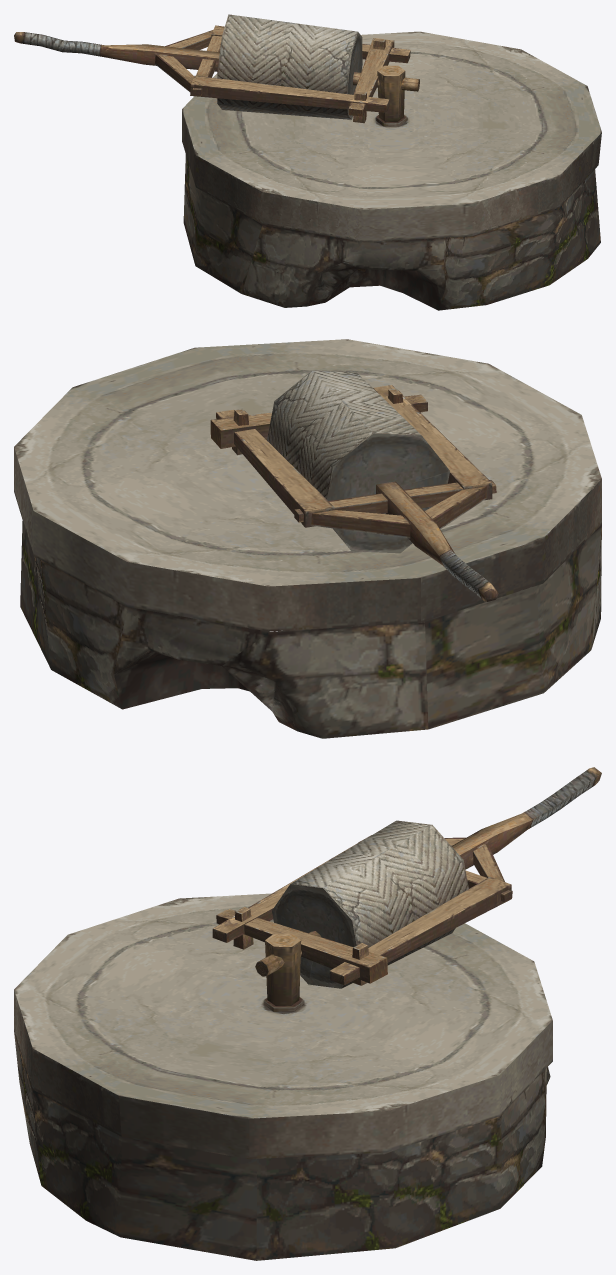
Rendered from jd_shimo_1.FBX.
The picture shows the model from 3 angles, top to bottom: view 1: azimuth 30°, elevation 25°; view 2: azimuth 150°, elevation 25°; view 3: azimuth 270°, elevation 25°; orthographic projection. The views are drawn at different scales.
Parts seen in each view (by area): view 1: jd_shimo_1; view 2: jd_shimo_1; view 3: jd_shimo_1.
Part boxes in pixels (x1,y1,x2,y2): jd_shimo_1: (14, 14, 601, 310); jd_shimo_1: (14, 339, 601, 738); jd_shimo_1: (14, 767, 601, 1260).
Size of the model in its own units: 264 by 239 by 115.
